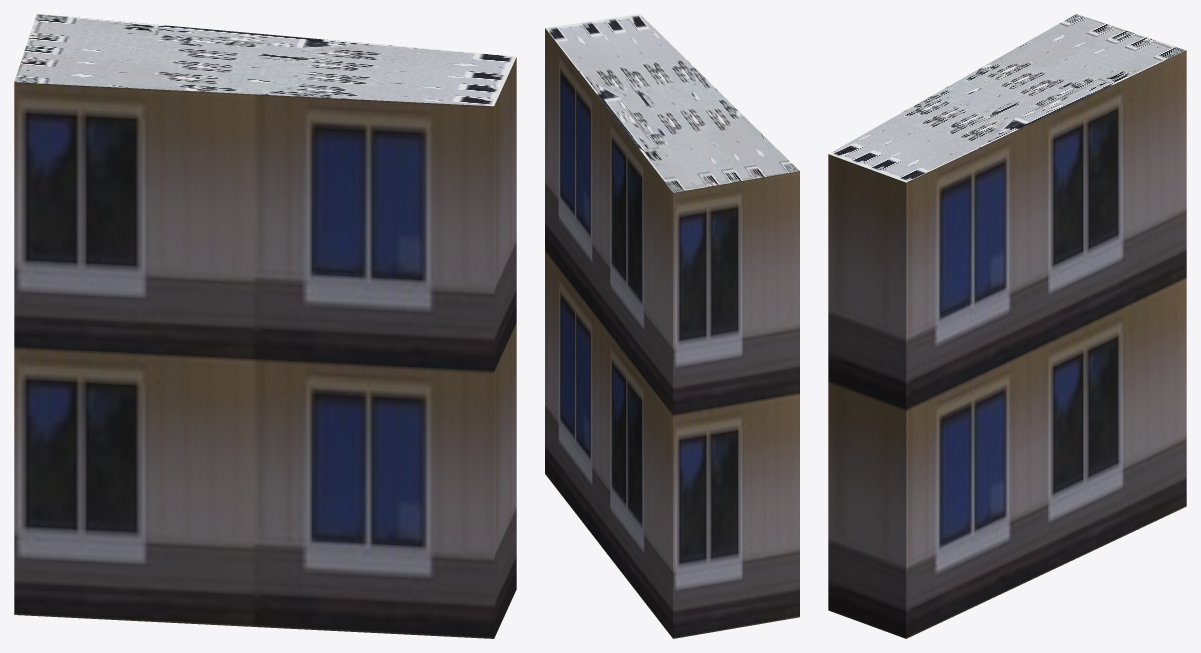
Rendered from ResTex__4443.fbx.
The picture shows the model from 3 angles, left to right: view 1: azimuth 30°, elevation 25°; view 2: azimuth 150°, elevation 25°; view 3: azimuth 270°, elevation 25°; orthographic projection. The views are drawn at different scales.
Parts seen in each view (by area): view 1: CityEngineMaterial_5_m, CityEngineMaterial_8_m; view 2: CityEngineMaterial_5_m, CityEngineMaterial_8_m; view 3: CityEngineMaterial_5_m, CityEngineMaterial_8_m.
Part boxes in pixels (bbox=[...]): CityEngineMaterial_5_m: bbox=[14, 57, 516, 638]; CityEngineMaterial_8_m: bbox=[14, 14, 516, 106]; CityEngineMaterial_5_m: bbox=[545, 28, 799, 638]; CityEngineMaterial_8_m: bbox=[545, 14, 799, 192]; CityEngineMaterial_5_m: bbox=[828, 50, 1186, 638]; CityEngineMaterial_8_m: bbox=[829, 14, 1185, 182].
Size of the model in its own units: 4.76 by 6 by 4.27.
2 materials, 2 textured.
